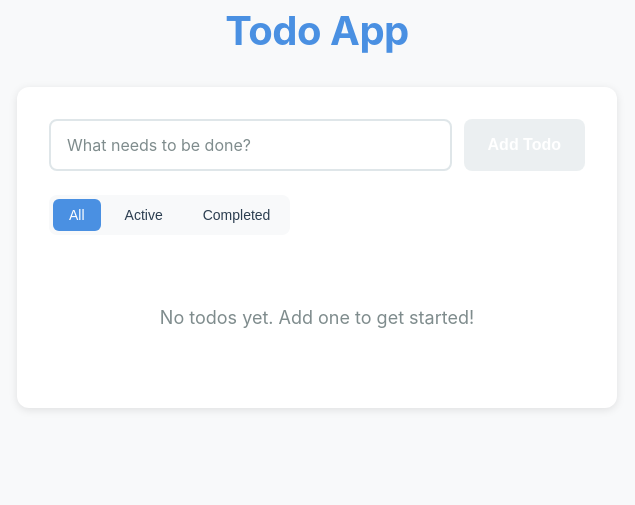
Test: App › should delete a todo
The image size is (635, 505).
In the field with placeholder "What needs to be done?": (250, 145) [49, 119, 452, 171], type "Delete test"
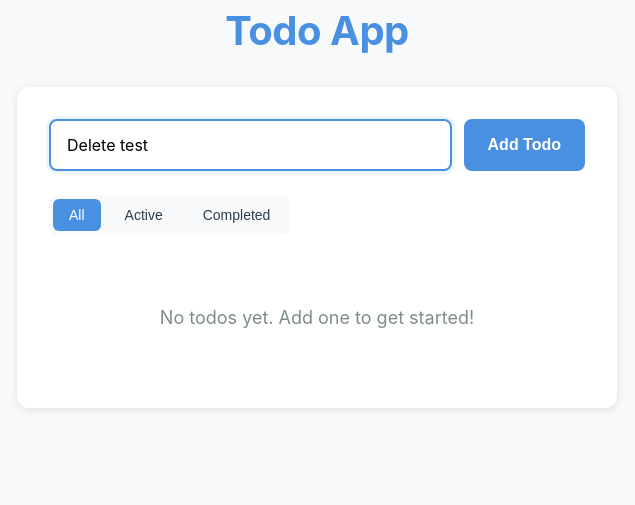
Click the button "Add Todo": (524, 145) [464, 119, 585, 171]
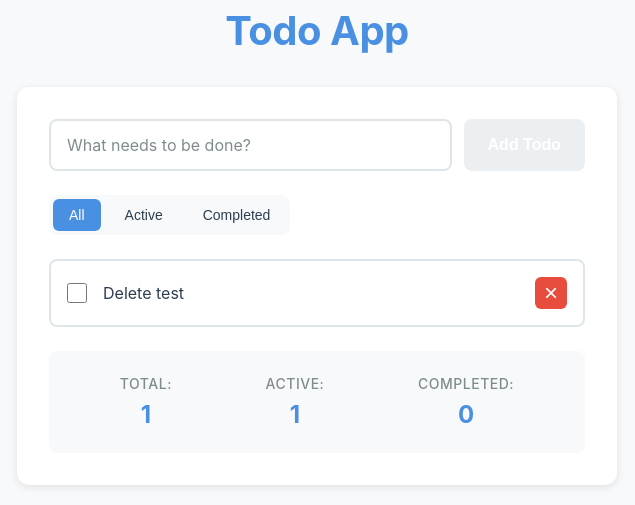
Expected: the text "Delete test" is shown, [103, 283, 184, 303]
Click the button named "delete \"delete test\"": (551, 293) [535, 277, 567, 309]
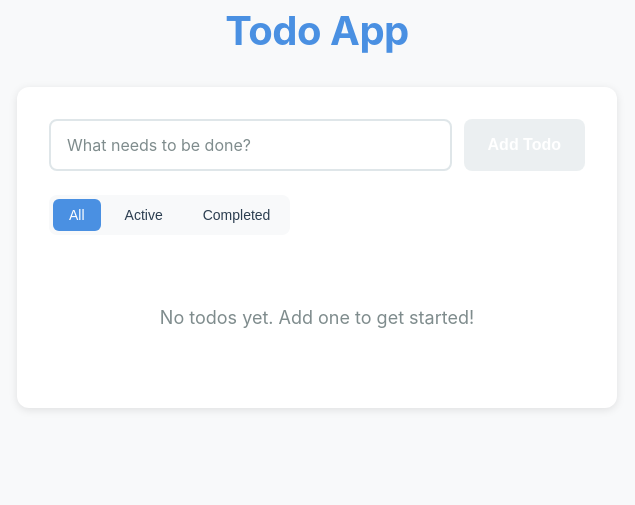
Expected: the text "Delete test" is gone
